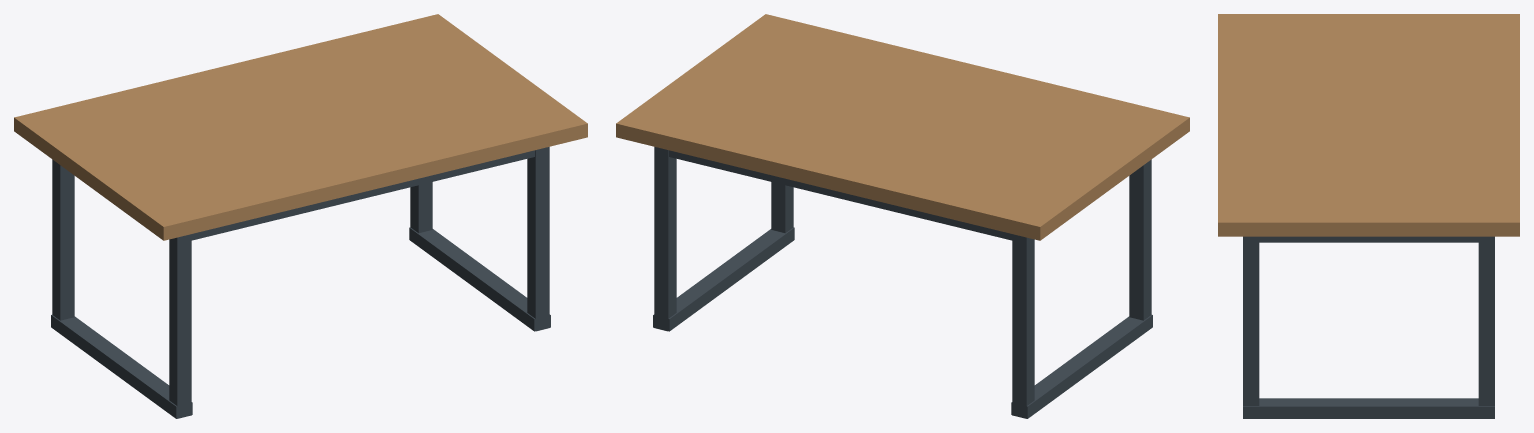
The model's file is coffeeTable-3.glb.
3 views of the same model, side by side, from view 1: azimuth 30°, elevation 25°; view 2: azimuth 150°, elevation 25°; view 3: azimuth 270°, elevation 25° (orthographic).
Visible parts, largest first — view 1: coffeeTable:3:editor; view 2: coffeeTable:3:editor; view 3: coffeeTable:3:editor.
Boxes of the visible parts, box(x1,y1,x2,y2) form: coffeeTable:3:editor: box(14, 14, 587, 418); coffeeTable:3:editor: box(616, 14, 1189, 418); coffeeTable:3:editor: box(1218, 14, 1519, 418).
Bounding box in the file's own units: 0.9 × 0.42 × 0.55.
